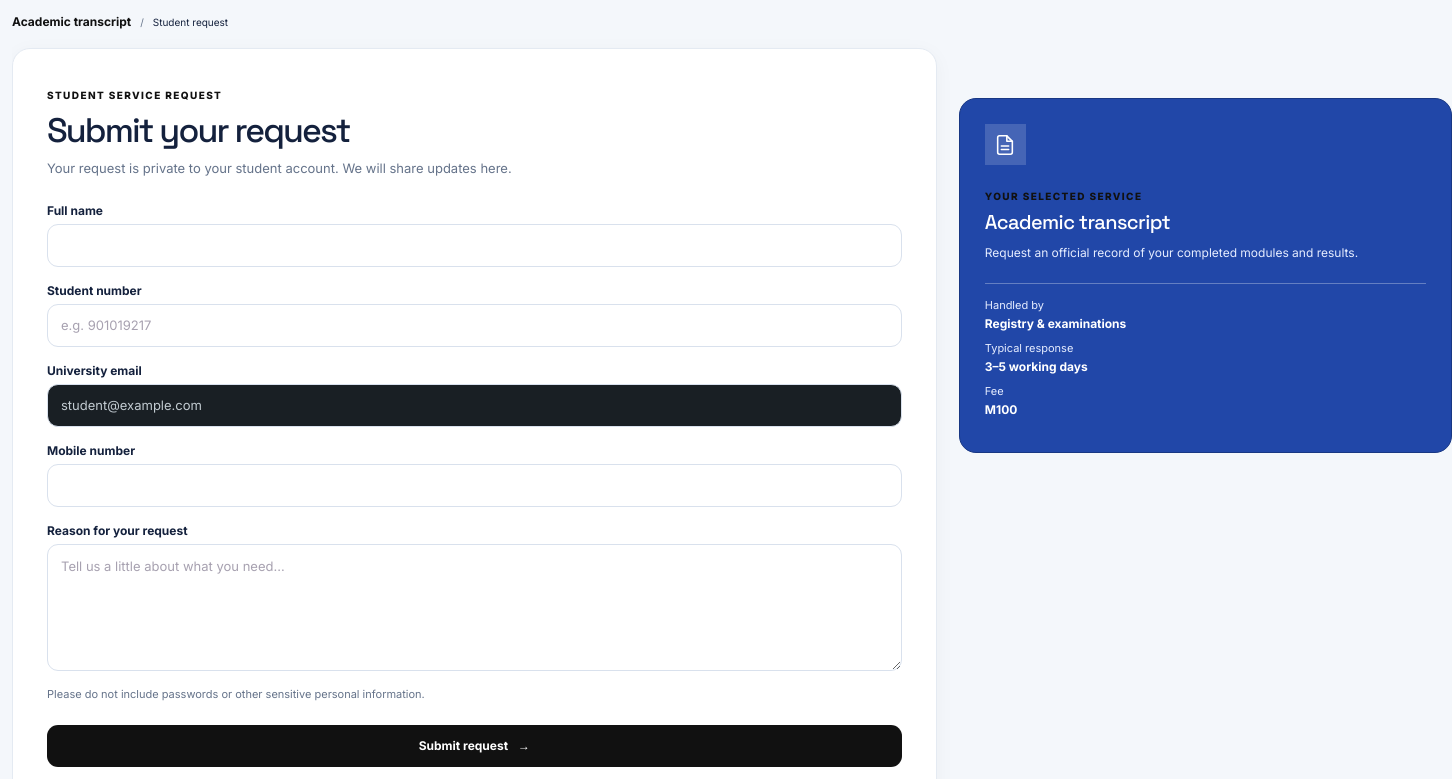
Test case: request form saves successfully, reports a reference, and clears entered values
Type "Student Example" into the field labelled "Full name".
click(474, 245); type("Student Example")  # box [47,224,902,266]
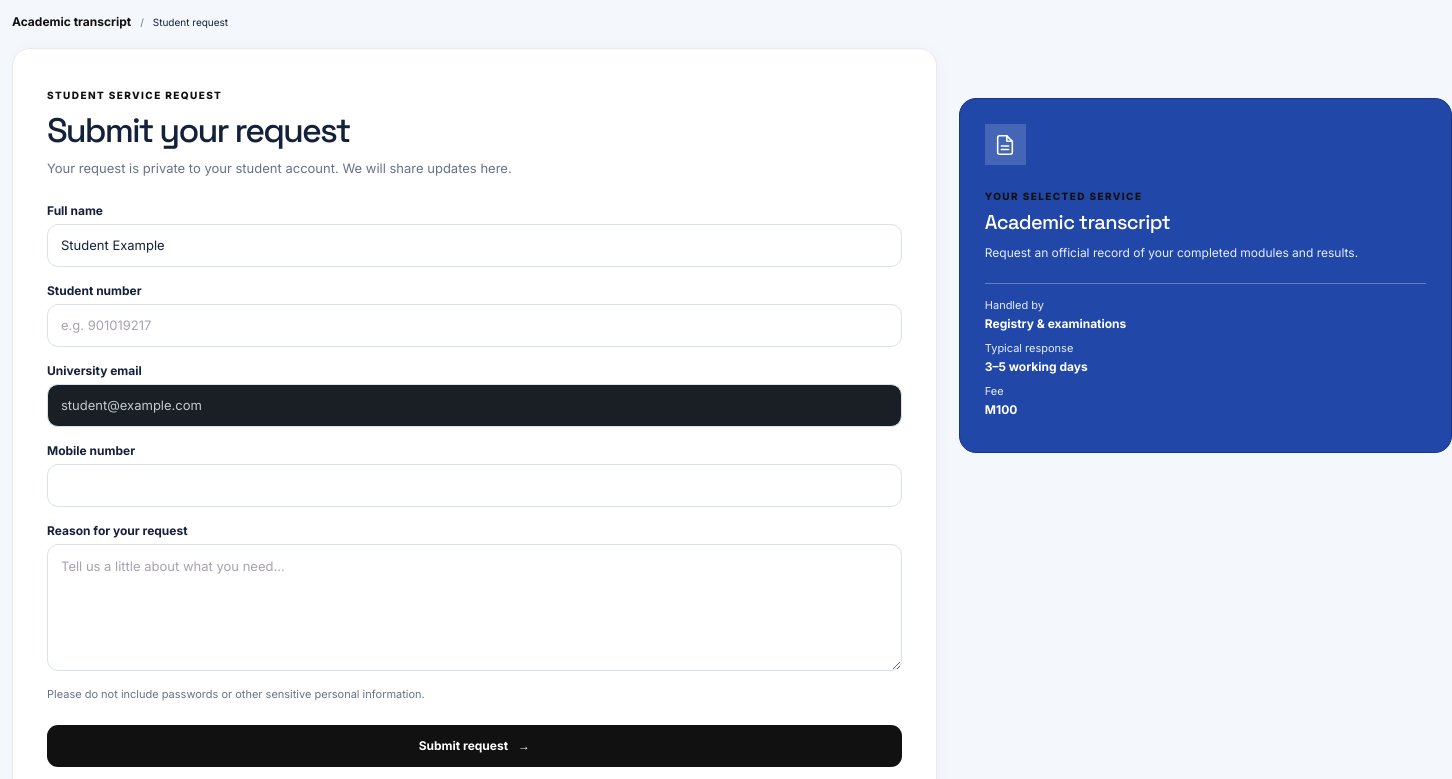
Type "901019217" into the field labelled "Student number".
click(474, 325); type("901019217")  # box [47,304,902,346]
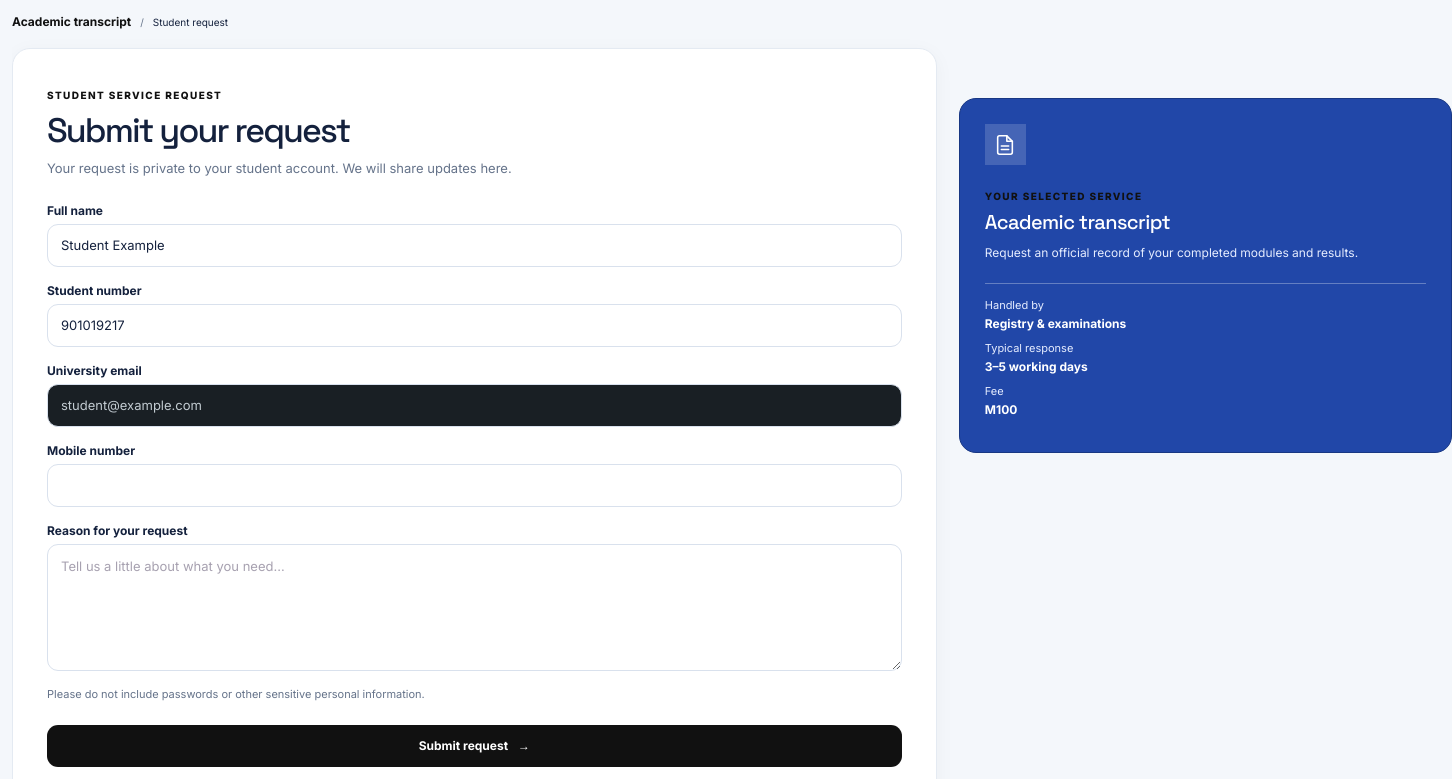
Type "+26651234567" into the field labelled "Mobile number".
click(474, 485); type("+26651234567")  # box [47,464,902,506]
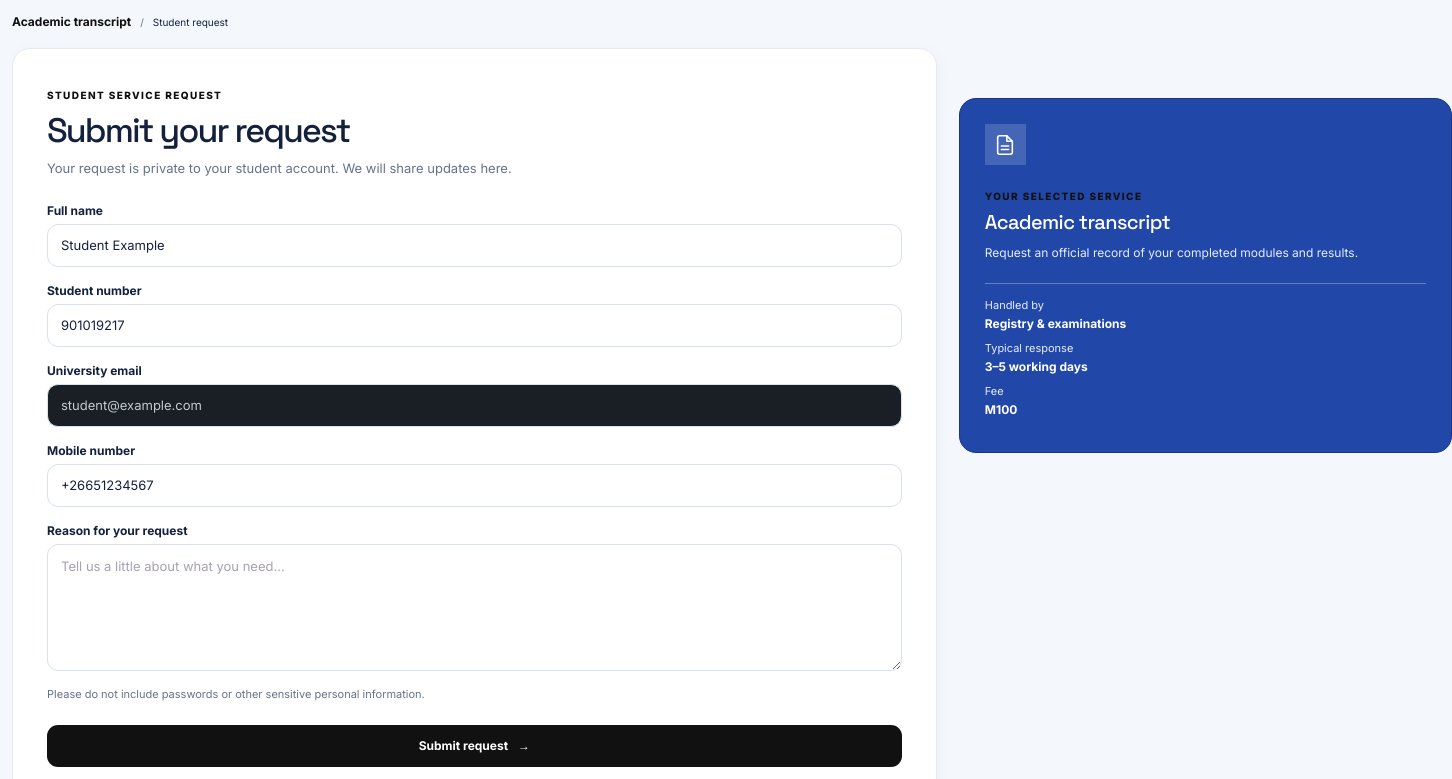
Type "Please provide my academic transcript." into the text box labelled "Reason for your request".
click(474, 608); type("Please provide my academic transcript.")  # box [47,544,902,672]
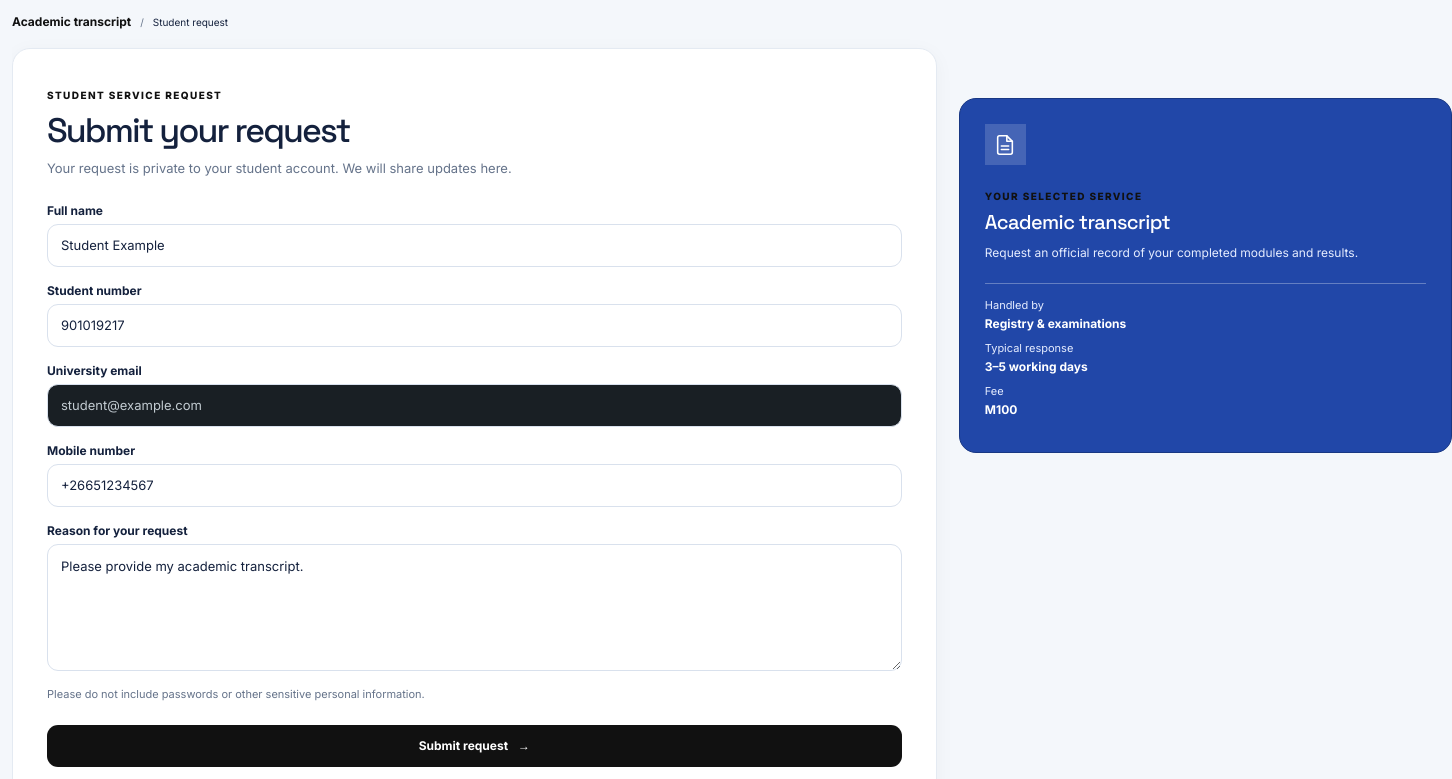
Submit the form named "submit request"
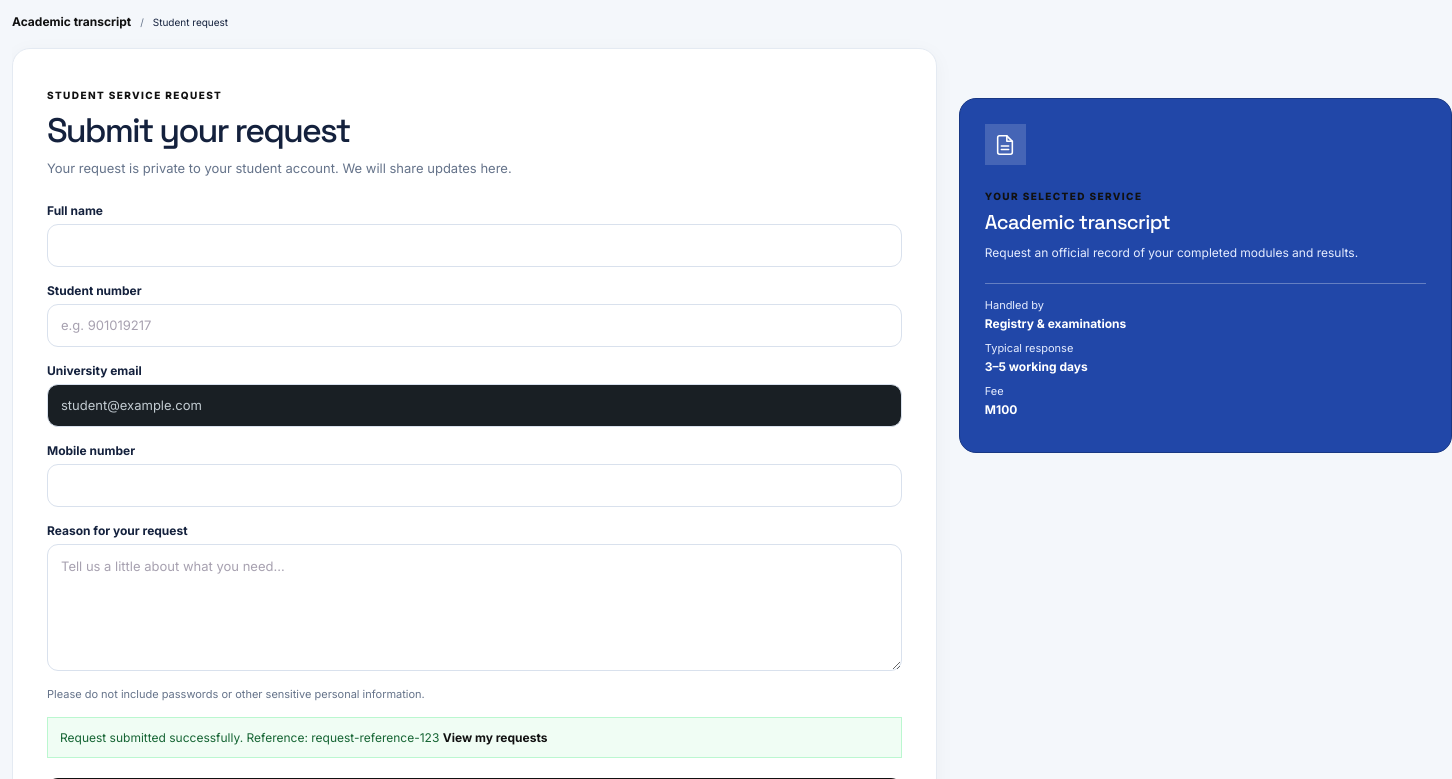
Expected: the message shows "Reference: request-reference-123", [60,730,439,745]
Expected: the field labelled "Full name" is empty, [47,224,902,266]
Expected: the field labelled "Student number" is empty, [47,304,902,346]
